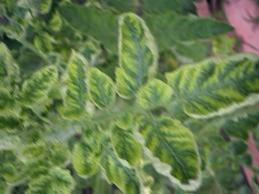Tomato leaf yellow virus: (180, 41, 259, 121), (134, 108, 209, 191), (107, 0, 158, 99), (61, 44, 98, 119), (19, 66, 55, 112), (110, 126, 145, 171), (70, 130, 102, 179), (25, 160, 68, 193), (86, 70, 115, 112), (34, 30, 53, 60)
